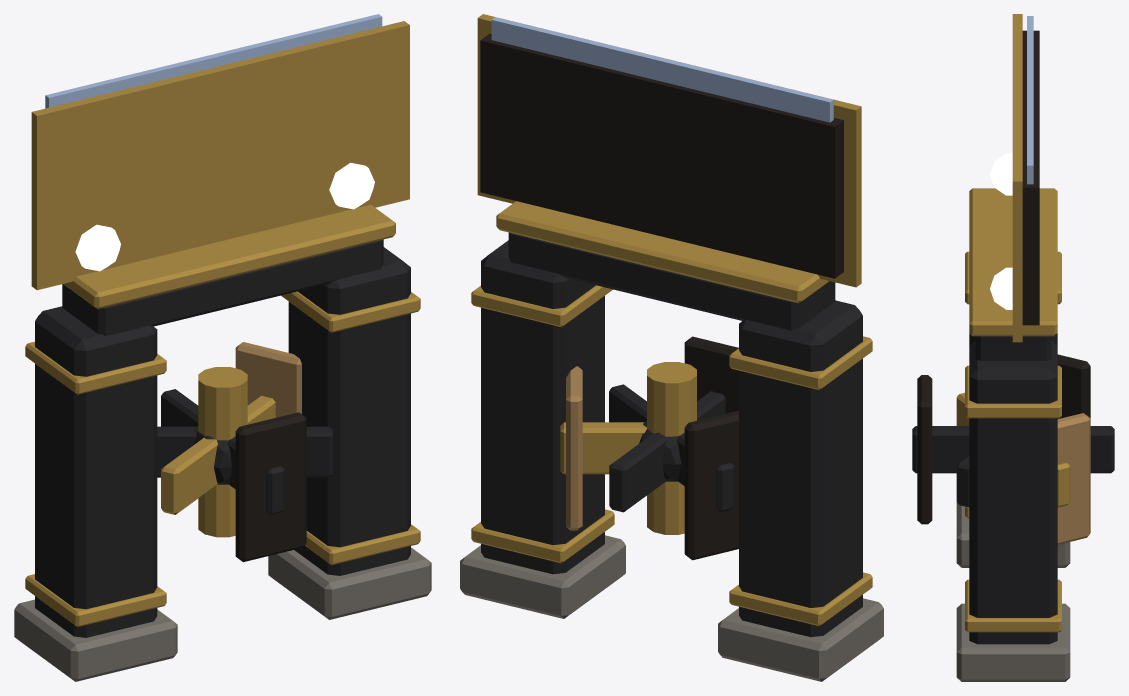
Rendered from SkyTurnstile.glb.
3 views of the same model, side by side, from view 1: azimuth 30°, elevation 25°; view 2: azimuth 150°, elevation 25°; view 3: azimuth 270°, elevation 25° (orthographic). The views are drawn at different scales.
Visible parts, largest first — view 1: Body, Glow; view 2: Body, Sign; view 3: Body, Sign, Glow.
Part boxes in pixels (box(x1,y1,x2,y2)): Body: box(14, 14, 431, 681); Glow: box(75, 162, 374, 271); Body: box(460, 14, 883, 681); Sign: box(480, 33, 843, 278); Body: box(912, 14, 1114, 681); Sign: box(1022, 30, 1039, 325); Glow: box(990, 153, 1012, 309).
Size of what is drawn, in the model's own units: 4.7 by 6.7 by 2.4.
